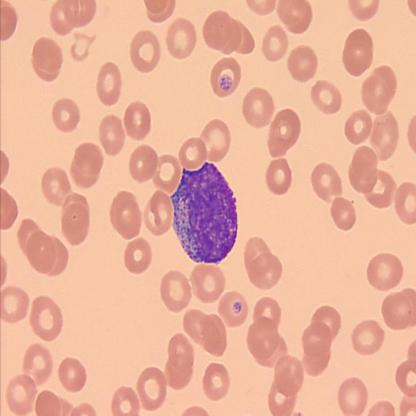Myelocyte: (172, 161, 240, 261)
